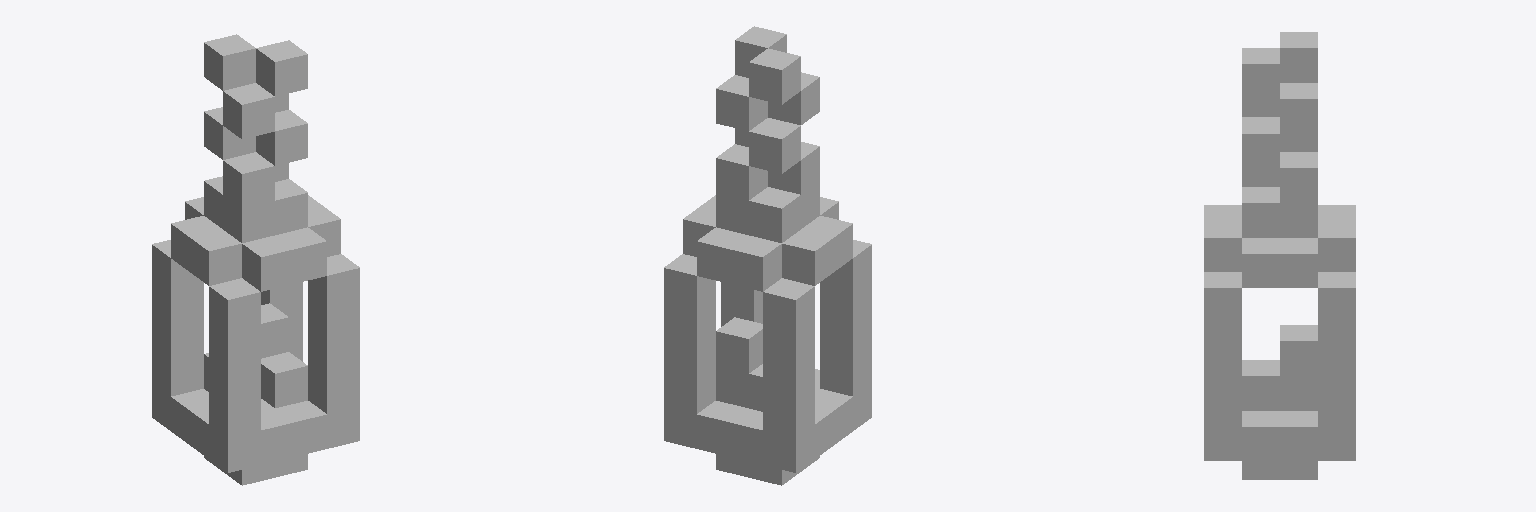
The model's file is lamp-0.obj.
The picture shows the model from 3 angles: view 1: azimuth 30°, elevation 25°; view 2: azimuth 150°, elevation 25°; view 3: azimuth 270°, elevation 25°; orthographic projection.
Visible parts, largest first — view 1: object 1; view 2: object 1; view 3: object 1.
Part boxes in pixels (left/top/right/bottom): object 1: left=152, top=34, right=359, bottom=485; object 1: left=664, top=26, right=871, bottom=485; object 1: left=1204, top=32, right=1355, bottom=479.
Bounding box in the file's own units: 0.4 × 1.2 × 0.4.